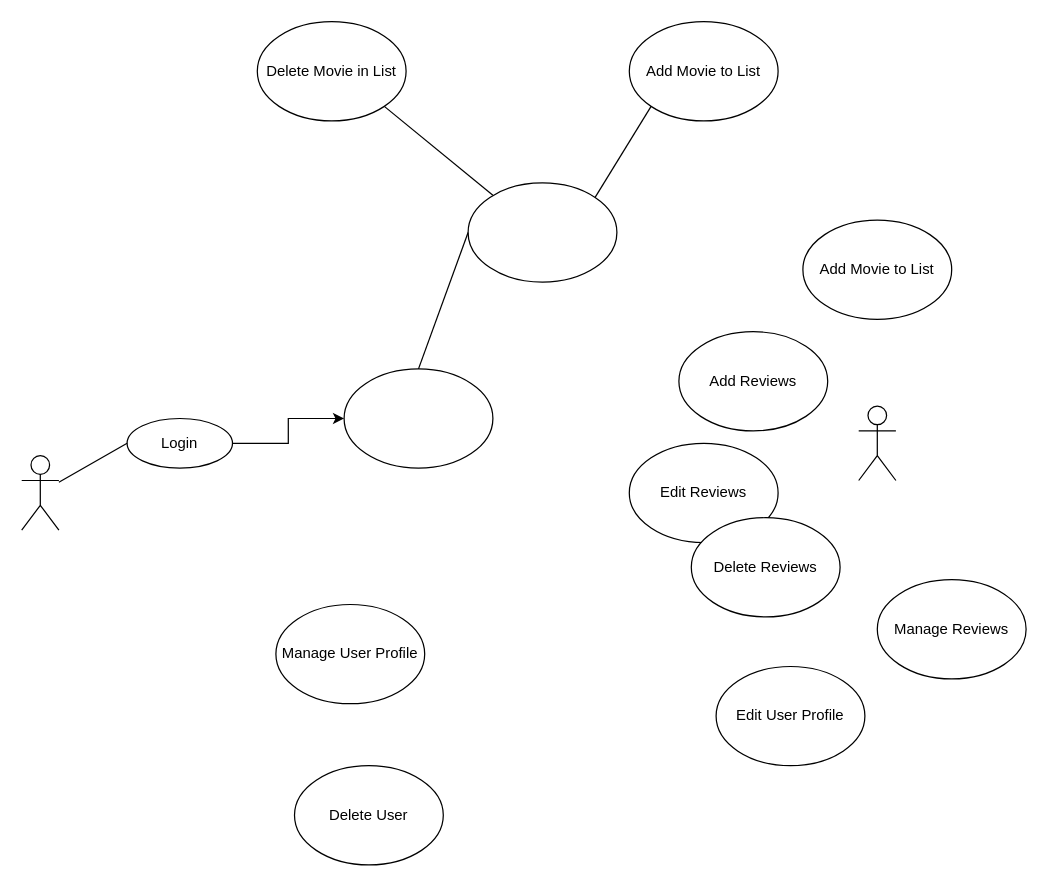
Some shapes in this 1048 by 887 pixel diagram are drawn without their labels. The box of each missing label's shape, as (x1, y1, x2, y2) in pixels:
Manage List: (467, 182, 617, 282)
Show Top Movies, Recent Reviews: (343, 368, 493, 468)
System: (857, 405, 896, 480)
User: (20, 454, 59, 530)
